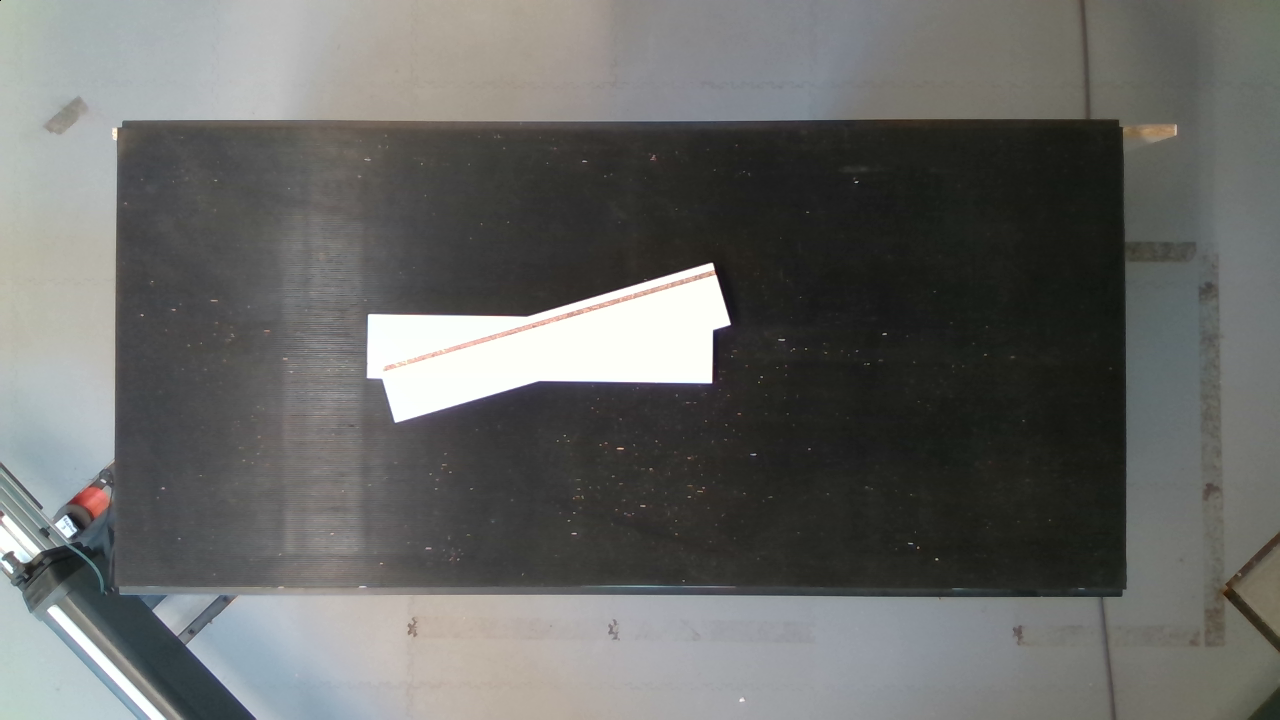part1: (382, 264, 786, 409), (358, 302, 722, 402)
